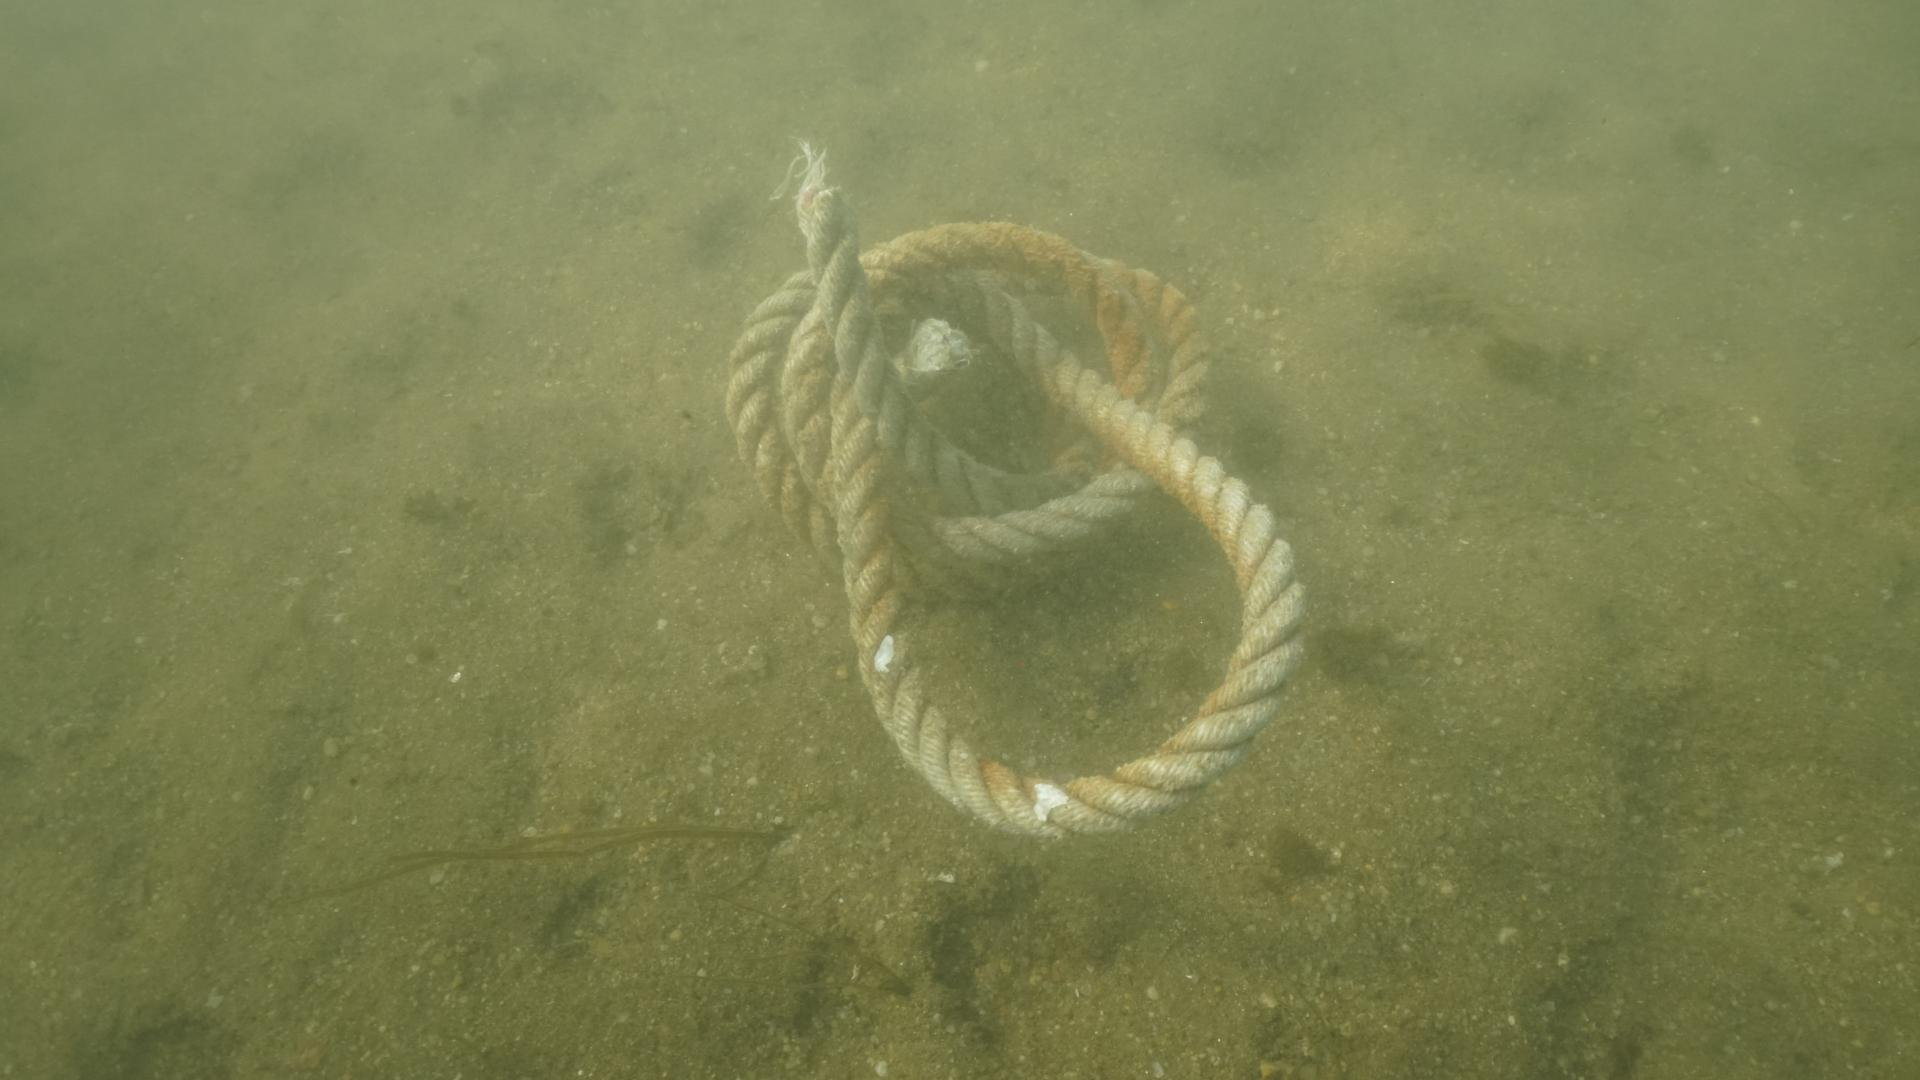bundle of ropes: (716, 195, 1313, 849)
